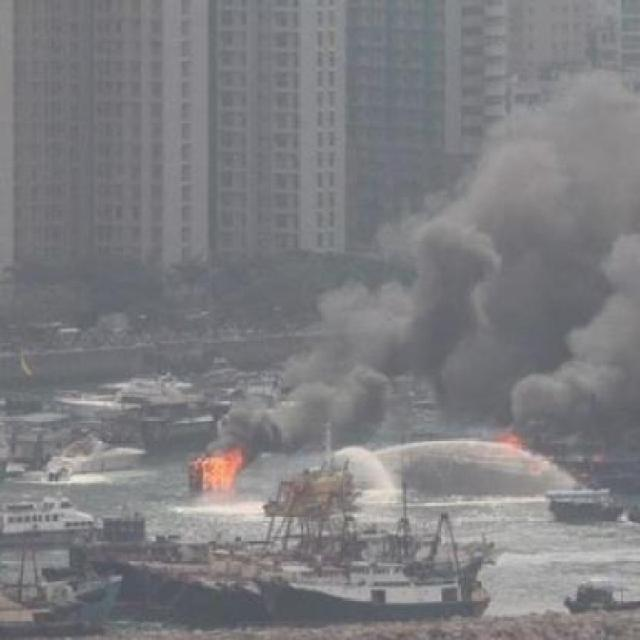Fire: (197, 452, 242, 492), (494, 434, 512, 454)
Smoke: (420, 116, 640, 423), (298, 226, 424, 442), (220, 398, 301, 462)
